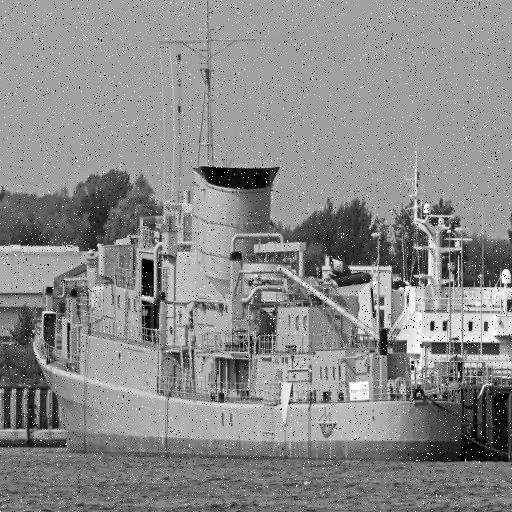Fragata: (32, 28, 464, 464)
